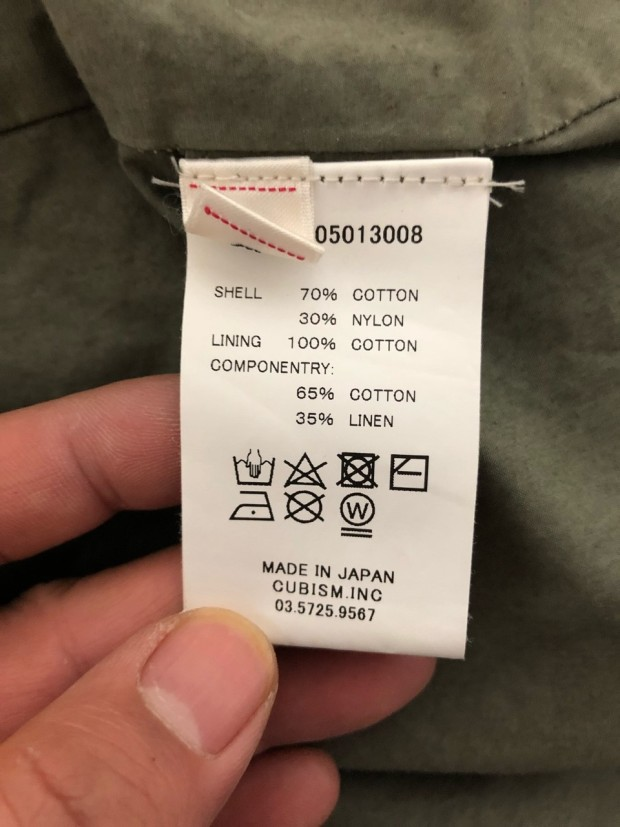ER_flat_dry_in_shade: (386, 451, 433, 496)
ER_hand_wash: (230, 446, 277, 485)
ER_iron_low_temp: (227, 487, 277, 525)
ER_no_bleach: (284, 451, 326, 489)
ER_no_dry_clean: (282, 487, 326, 526)
ER_no_tumble_dry: (334, 447, 381, 492)
